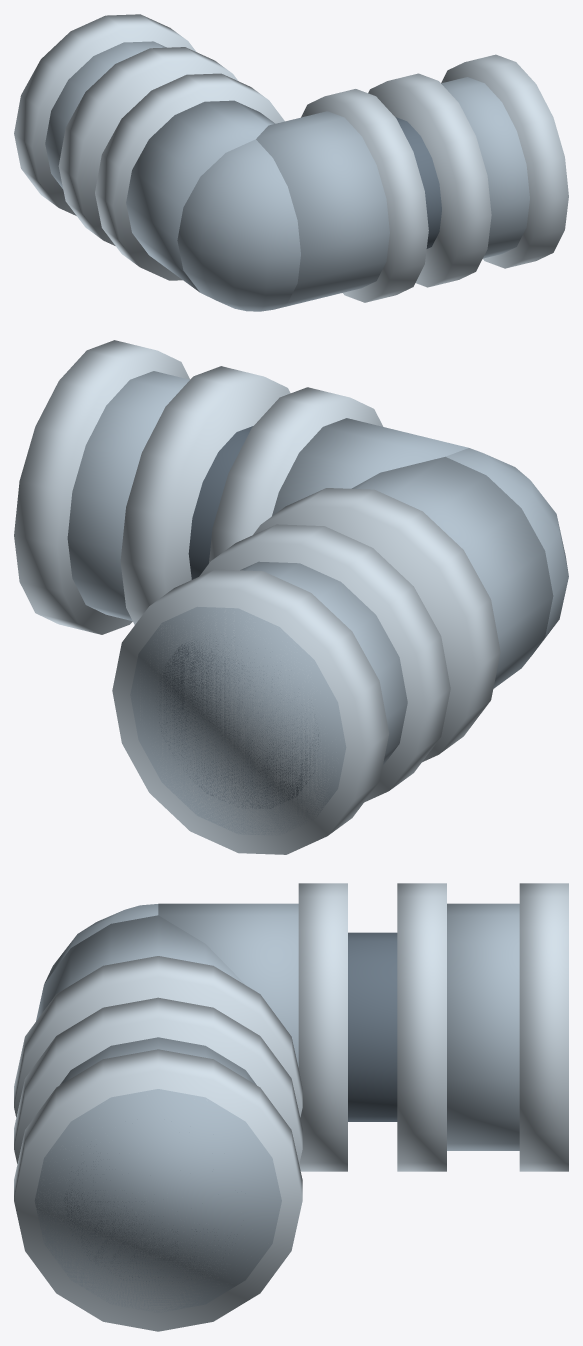
File: pipe_elbow.glb
The picture shows the model from 3 angles, top to bottom: view 1: azimuth 30°, elevation 25°; view 2: azimuth 150°, elevation 25°; view 3: azimuth 270°, elevation 25°; orthographic projection. The views are drawn at different scales.
Parts seen in each view (by area): view 1: Pipe_Collar.002, Pipe_Shell.002, Pipe_Water.002; view 2: Pipe_Collar.002, Pipe_Shell.002, Pipe_Water.002; view 3: Pipe_Collar.002, Pipe_Shell.002, Pipe_Water.002.
Part boxes in pixels (<box>): Pipe_Collar.002: <box>14,14,568,302</box>; Pipe_Shell.002: <box>45,41,529,311</box>; Pipe_Water.002: <box>395,117,441,248</box>; Pipe_Collar.002: <box>14,340,500,854</box>; Pipe_Shell.002: <box>67,371,568,835</box>; Pipe_Water.002: <box>158,426,318,808</box>; Pipe_Collar.002: <box>14,883,568,1331</box>; Pipe_Shell.002: <box>34,903,519,1312</box>; Pipe_Water.002: <box>64,932,397,1281</box>.
Bounding box in the file's own units: 0.673 × 0.35 × 0.673.
